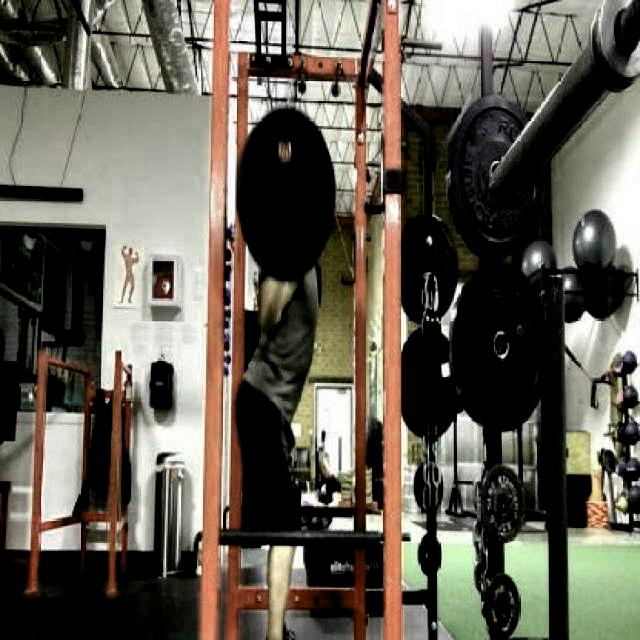barbell: (232, 110, 342, 285), (452, 265, 552, 434)
